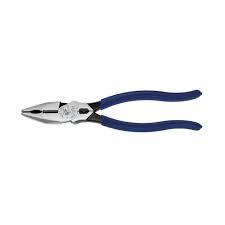pliers: (20, 89, 201, 132)
